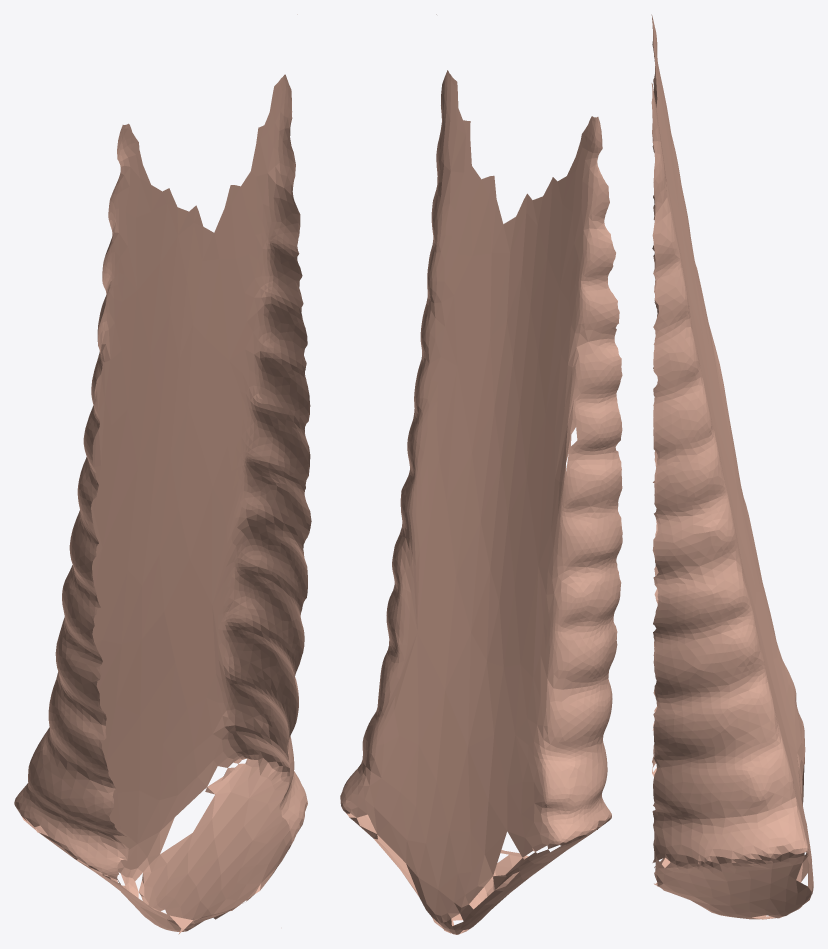
Rendered from trachea_interno.glb.
The picture shows the model from 3 angles, left to right: view 1: azimuth 30°, elevation 25°; view 2: azimuth 150°, elevation 25°; view 3: azimuth 270°, elevation 25°; orthographic projection. The views are drawn at different scales.
Parts seen in each view (by area): view 1: trachea; view 2: trachea; view 3: trachea.
Boxes of the visible parts, x1,y1,x2,y2 form: trachea: (14,14,311,934); trachea: (340,14,622,934); trachea: (651,14,813,919).
Bounding box in the file's own units: 25.34 × 85.53 × 13.54.
